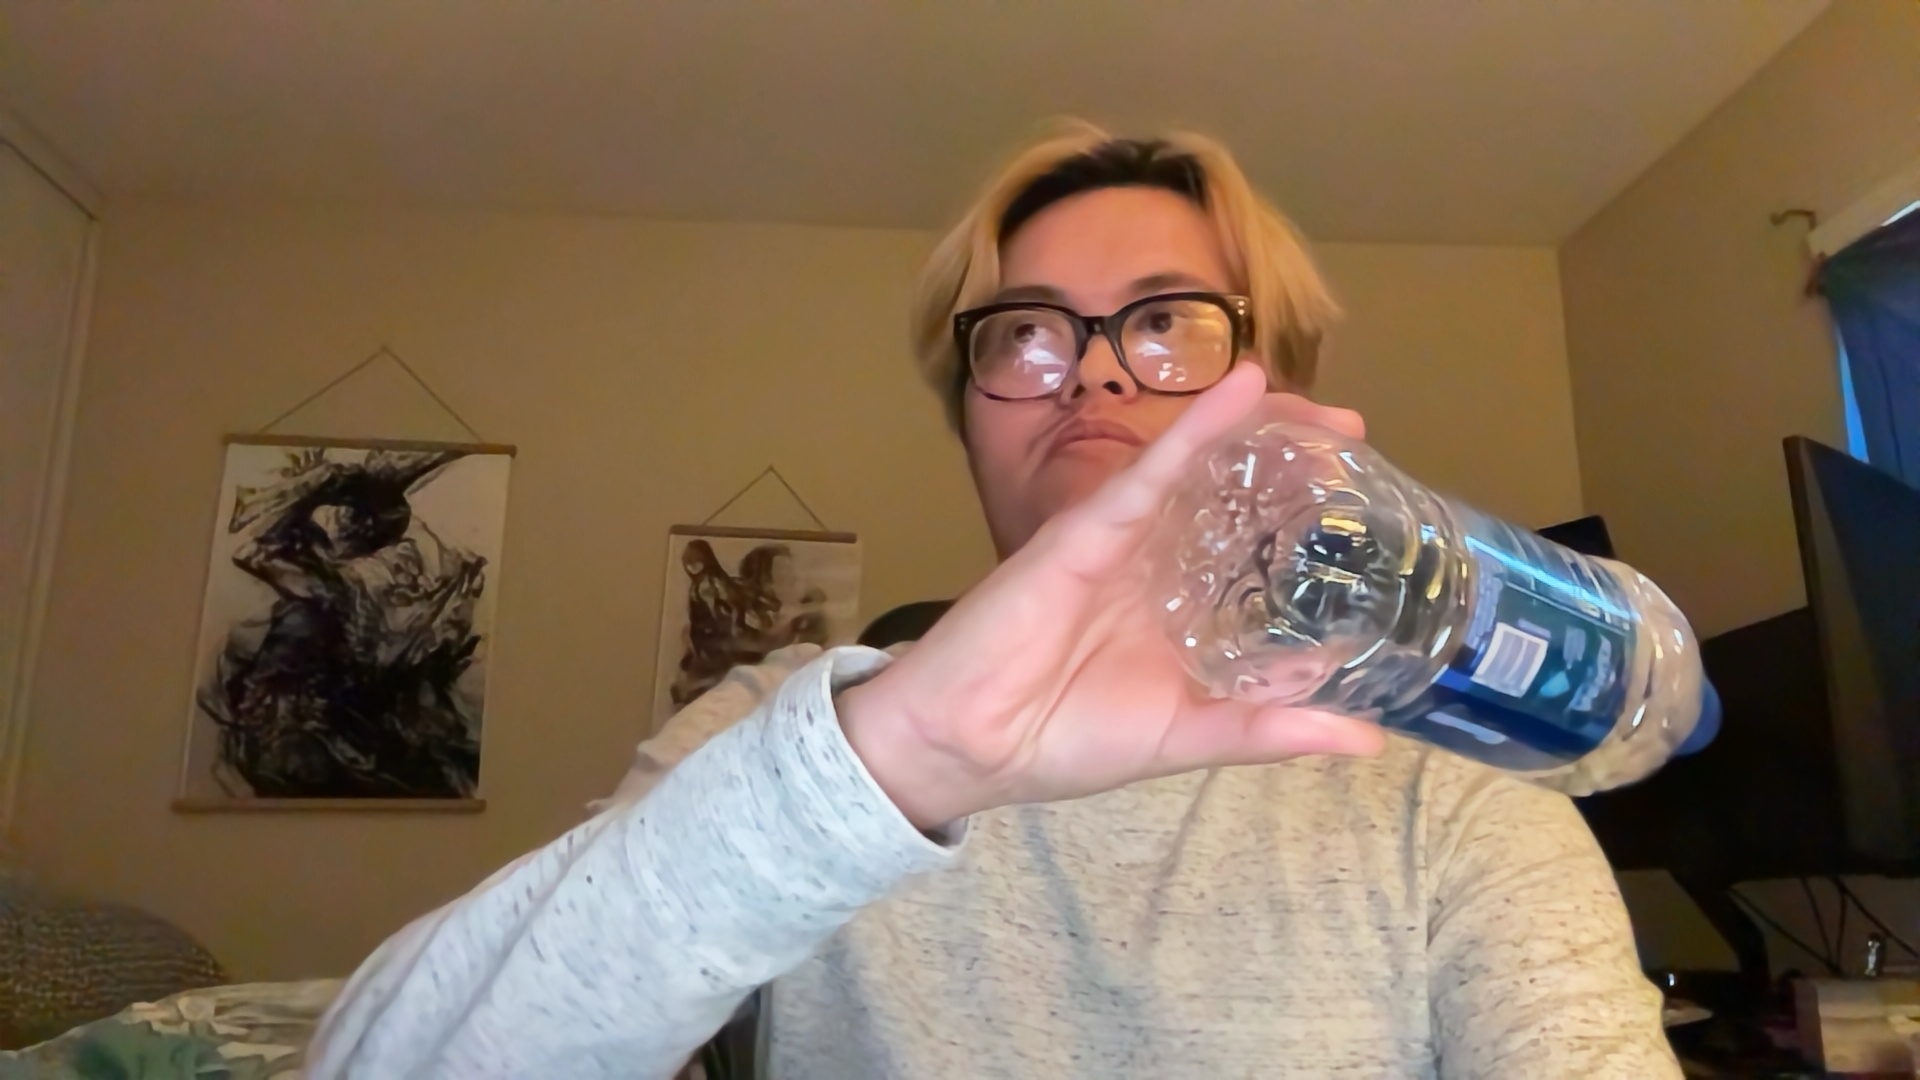bottle: (1164, 415, 1739, 815)
